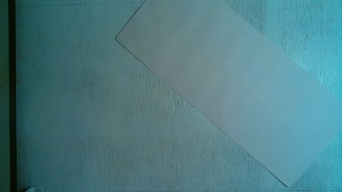l: (116, 1, 342, 186)
